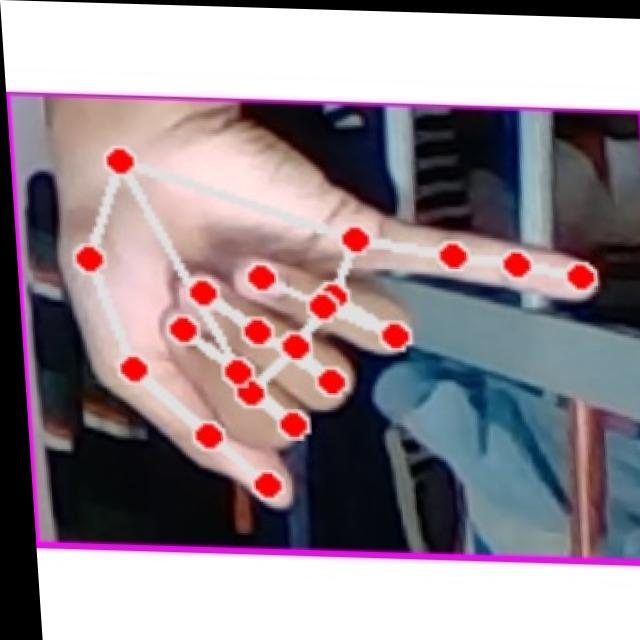J: (33, 114, 620, 535)
